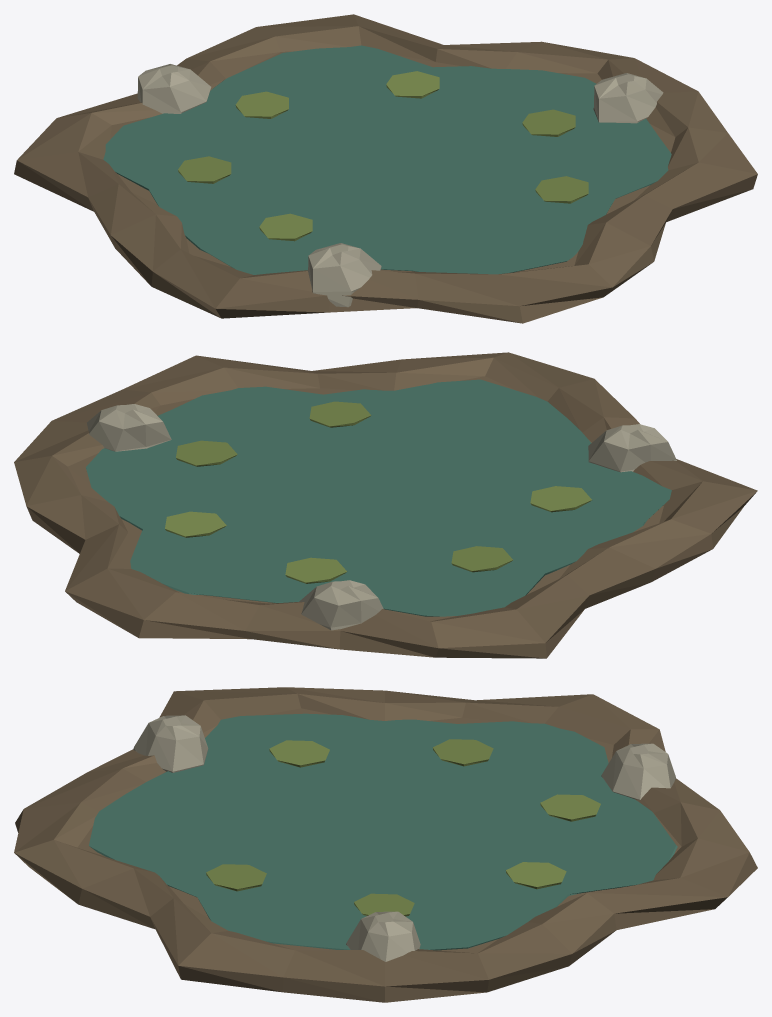
Rendered from swamp-patch.glb.
3 views of the same model, one above another, from view 1: azimuth 30°, elevation 25°; view 2: azimuth 150°, elevation 25°; view 3: azimuth 270°, elevation 25° (orthographic). The views are drawn at different scales.
Parts seen in each view (by area): view 1: swamp-patch; view 2: swamp-patch; view 3: swamp-patch.
Part boxes in pixels (x1,y1,x2,y2): swamp-patch: (14, 14, 757, 323); swamp-patch: (14, 352, 757, 658); swamp-patch: (14, 687, 757, 1002).
Size of the model in its own units: 5.59 by 0.4191 by 5.83.
